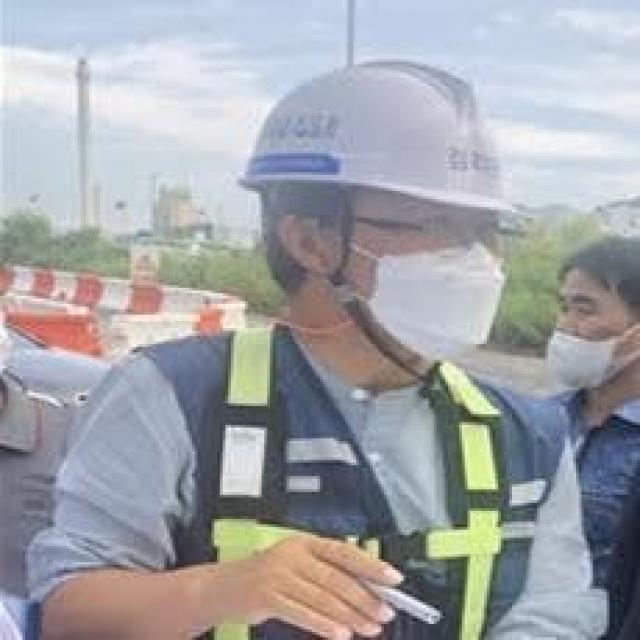hat: (237, 59, 520, 213)
